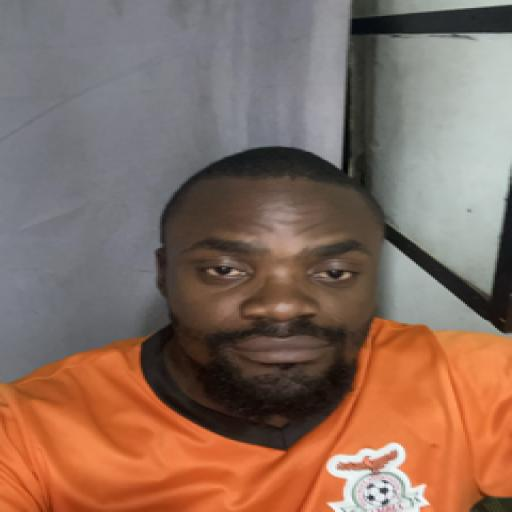JEANLUC: (156, 139, 400, 421)
